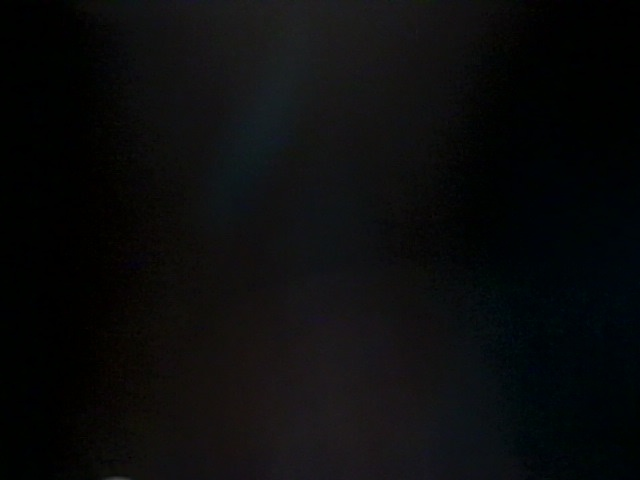KHSLJ: (59, 1, 378, 327)
